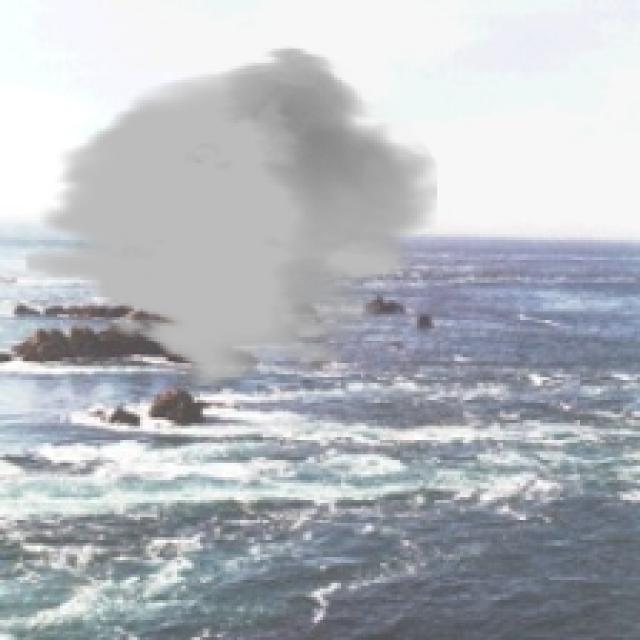smoke: (26, 46, 437, 388)
